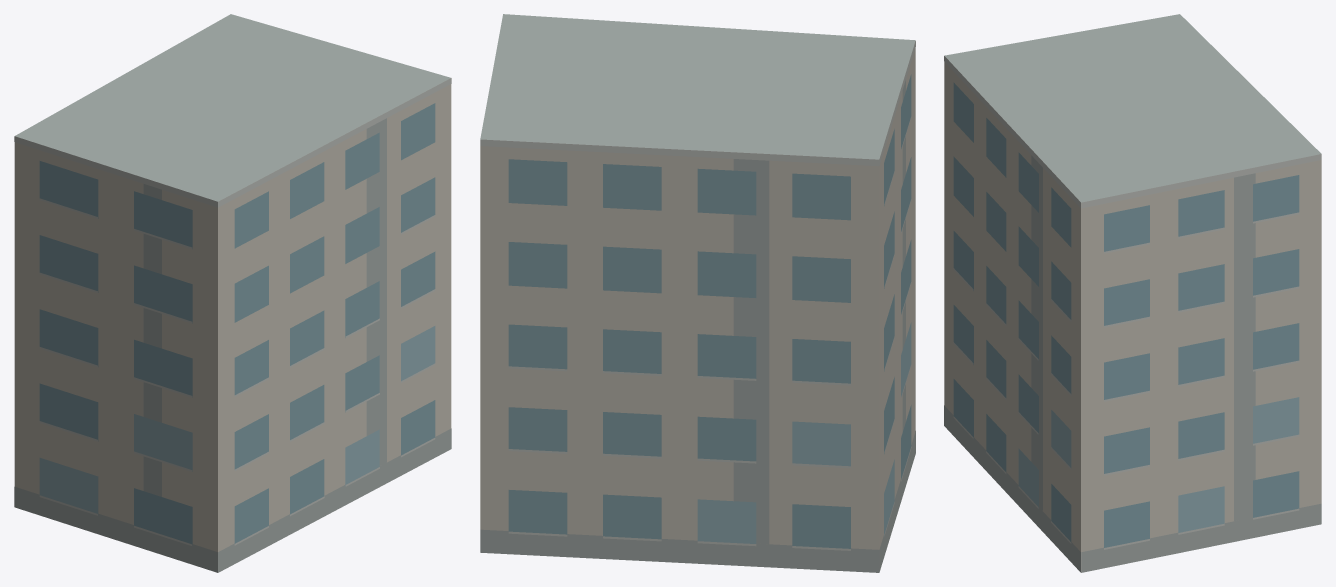
Rendered from survey-upis-32937035.glb.
The picture shows the model from 3 angles, left to right: view 1: azimuth 30°, elevation 25°; view 2: azimuth 150°, elevation 25°; view 3: azimuth 270°, elevation 25°; orthographic projection. The views are drawn at different scales.
Visible parts, largest first — view 1: survey-upis-32937035.tmp; view 2: survey-upis-32937035.tmp; view 3: survey-upis-32937035.tmp.
Part boxes in pixels (x1,y1,x2,y2): survey-upis-32937035.tmp: [14, 14, 451, 572]; survey-upis-32937035.tmp: [480, 14, 915, 572]; survey-upis-32937035.tmp: [944, 14, 1321, 572].
Bounding box in the file's own units: 16.67 × 15.25 × 14.1.
